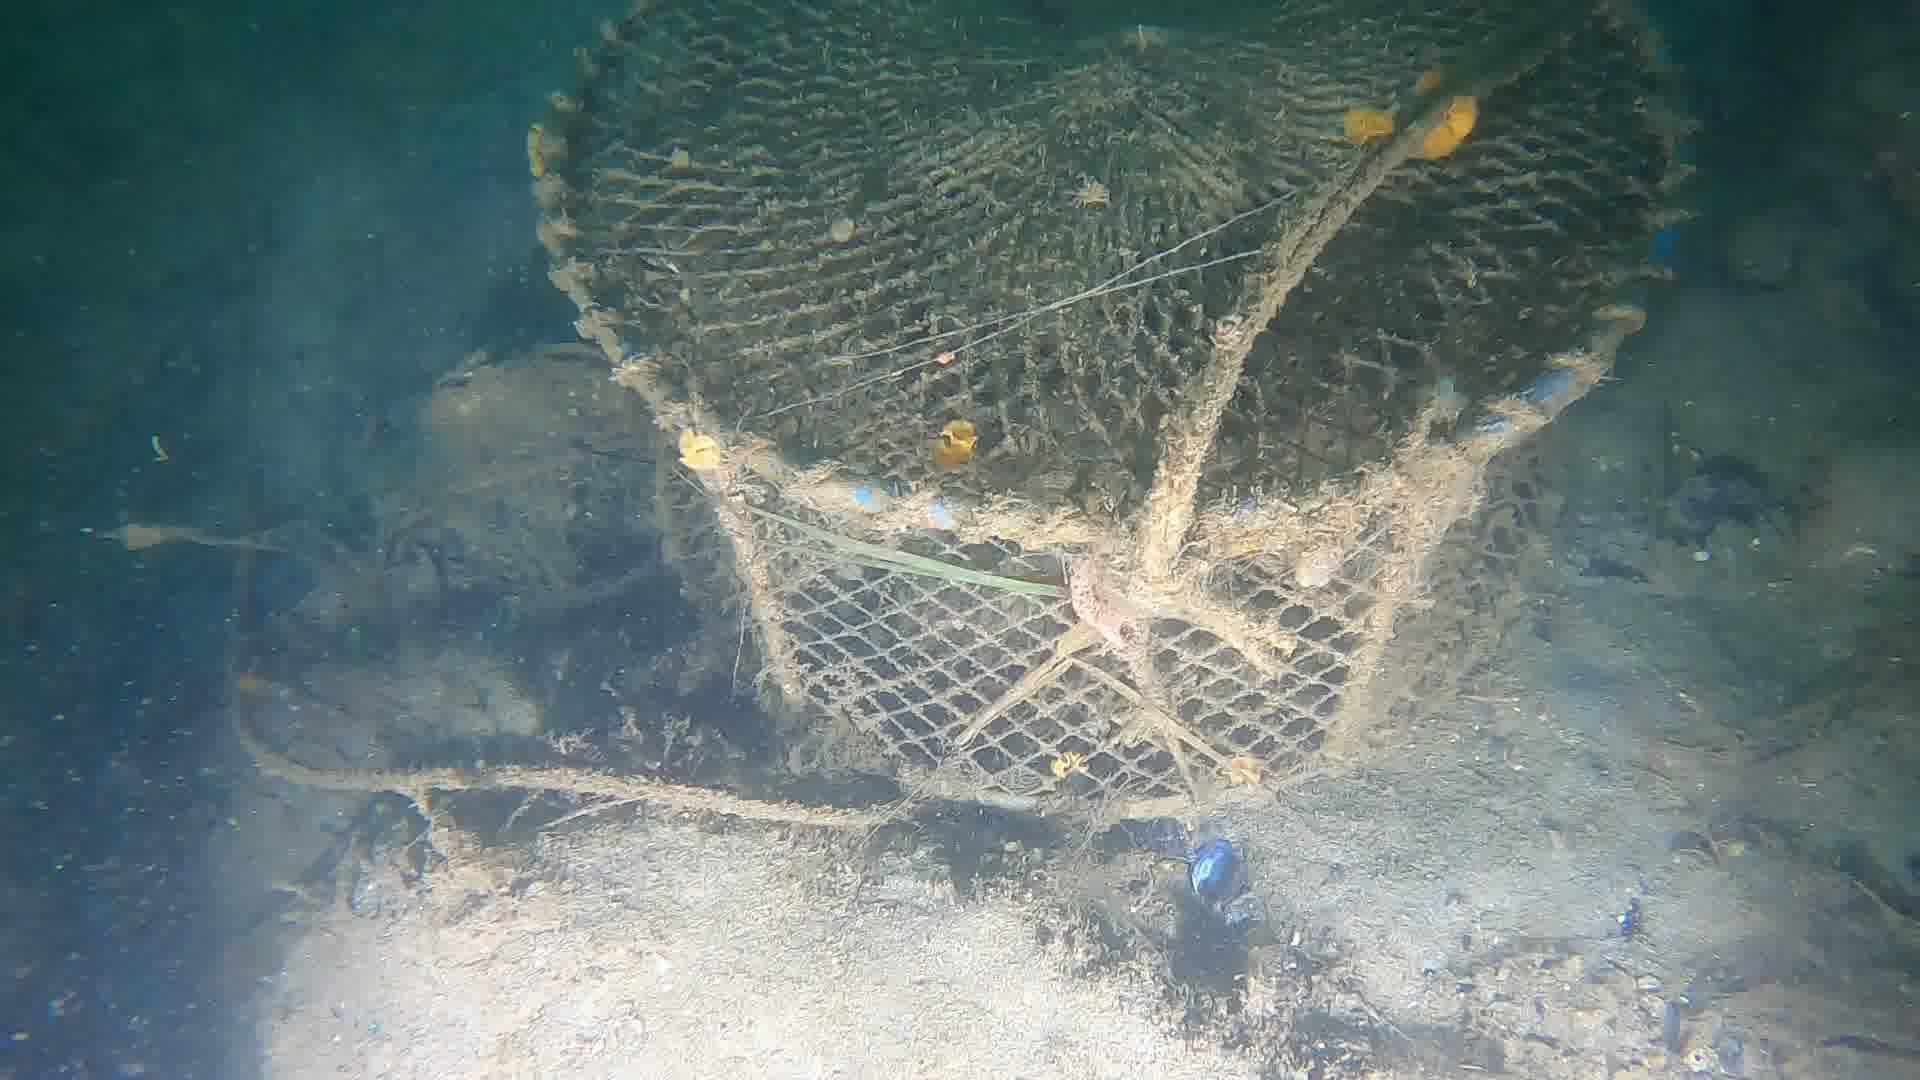circular fish trap: (527, 0, 1698, 822)
rope: (215, 682, 910, 831)
